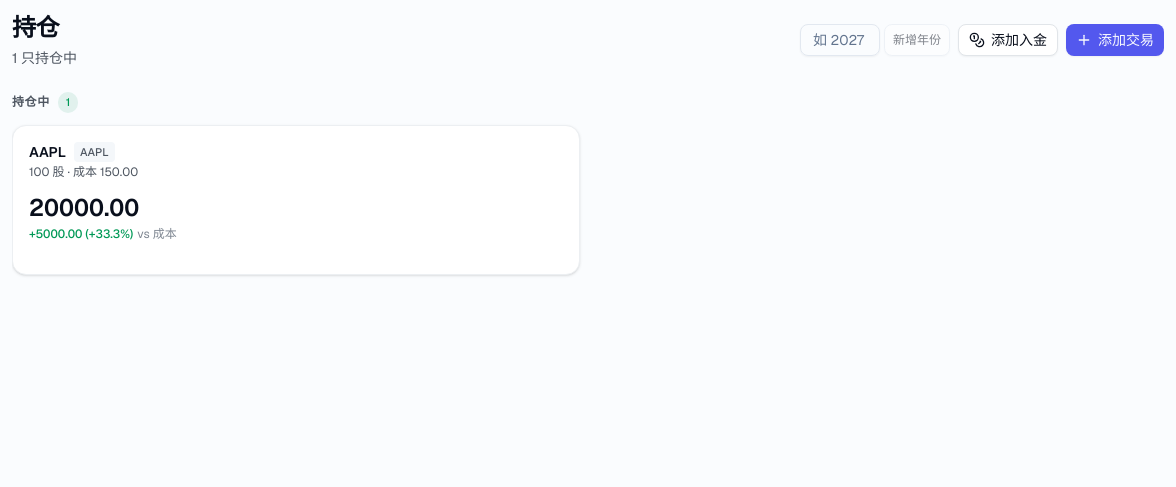
Scenario: HoldingsSection › 点击「添加入金」按钮后现金表单展开
Click the button "添加入金" at (1008,40), box [958,24,1058,56]
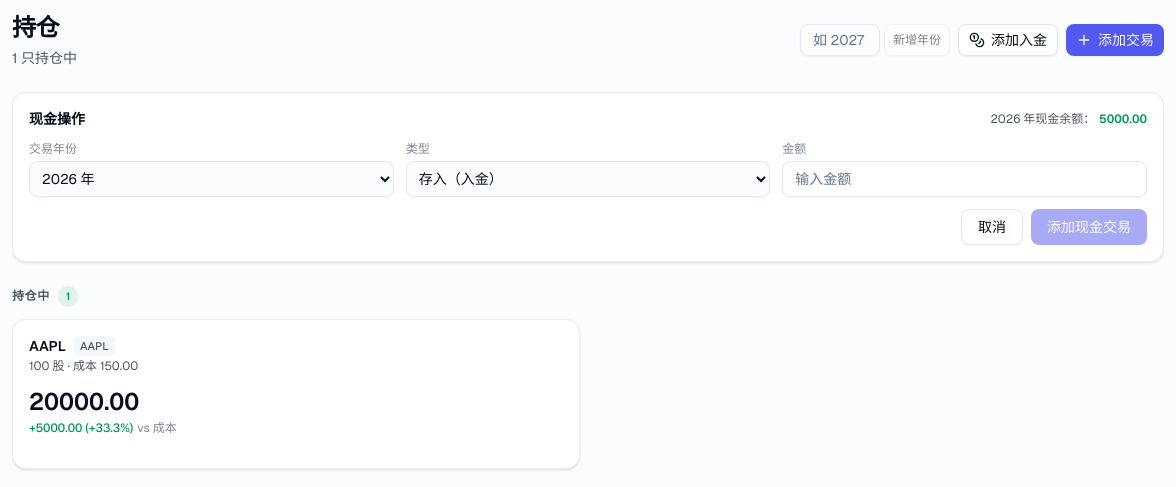
Check: the heading "现金操作" is shown, box [29,109,85,129]
Check: the button "添加现金交易" is shown, box [1031,209,1147,245]
